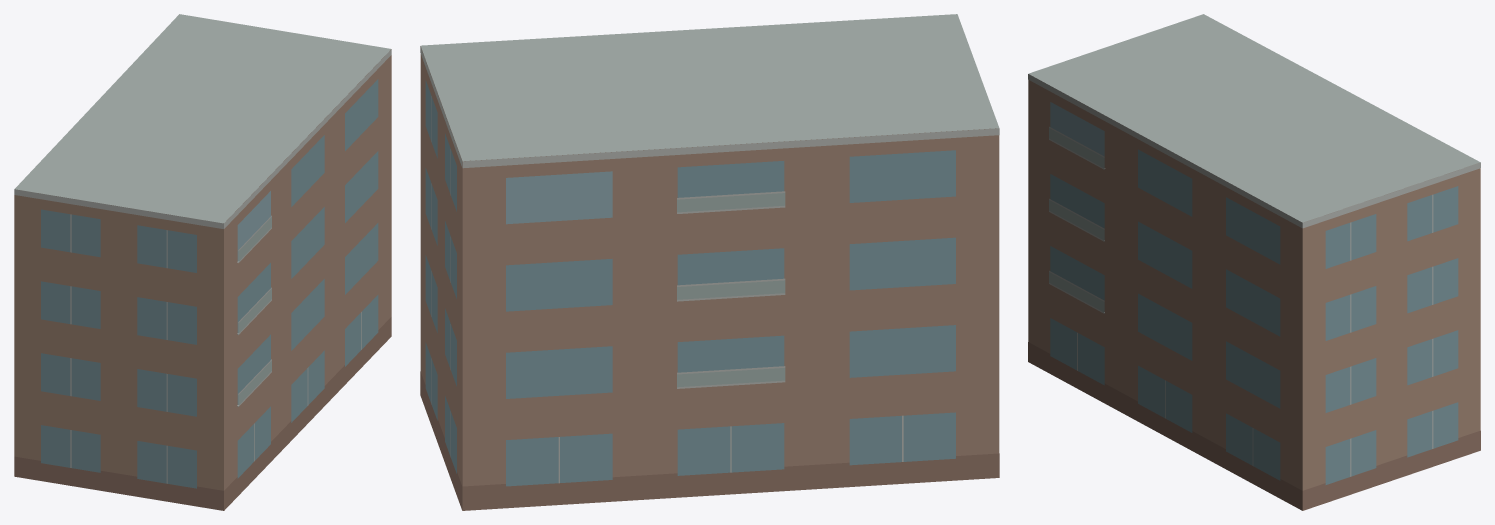
Rendered from survey-upis-32596874.glb.
The picture shows the model from 3 angles, left to right: view 1: azimuth 30°, elevation 25°; view 2: azimuth 150°, elevation 25°; view 3: azimuth 270°, elevation 25°; orthographic projection. The views are drawn at different scales.
Parts seen in each view (by area): view 1: survey-upis-32596874.tmp; view 2: survey-upis-32596874.tmp; view 3: survey-upis-32596874.tmp.
Part boxes in pixels (x1=…): survey-upis-32596874.tmp: x1=14, y1=14, x2=391, y2=510; survey-upis-32596874.tmp: x1=420, y1=14, x2=999, y2=510; survey-upis-32596874.tmp: x1=1028, y1=14, x2=1480, y2=510.
Size of the model in its own units: 18.96 by 12.2 by 17.38.
